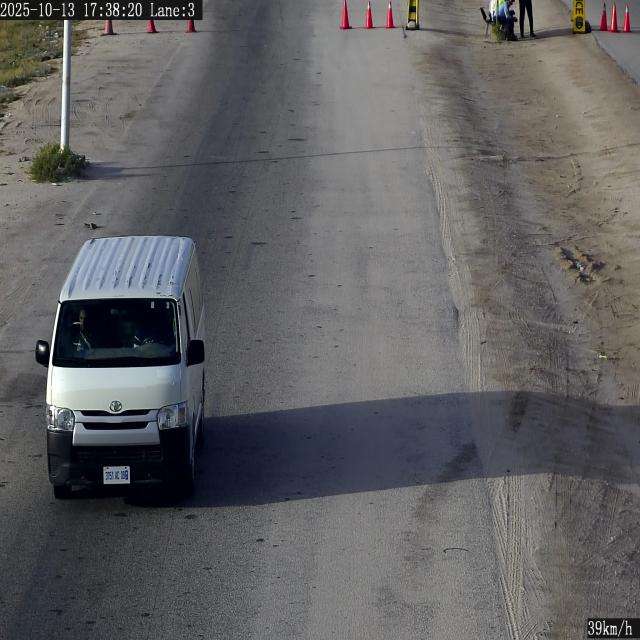BUS: (104, 466, 130, 484)
